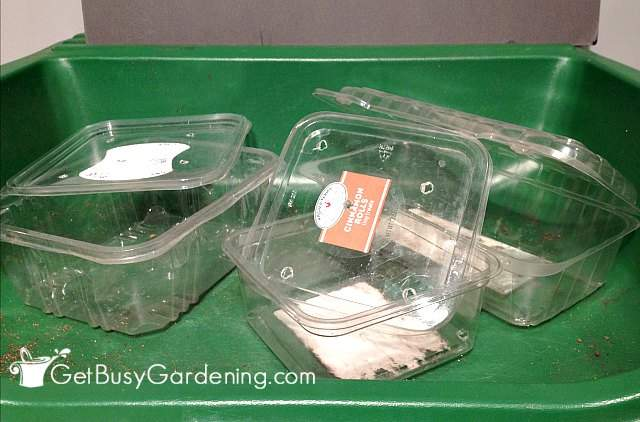PlasticBox: (1, 108, 290, 339)
